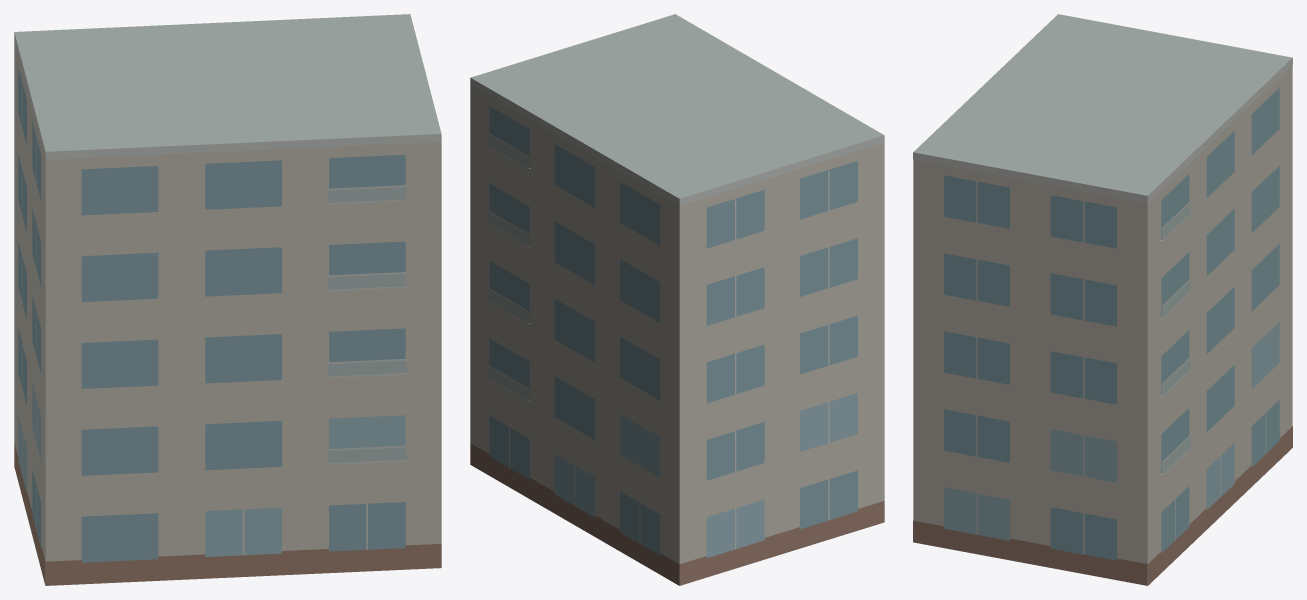
The model's file is survey-upis-32995027.glb.
The picture shows the model from 3 angles, left to right: view 1: azimuth 30°, elevation 25°; view 2: azimuth 150°, elevation 25°; view 3: azimuth 270°, elevation 25°; orthographic projection. The views are drawn at different scales.
Parts seen in each view (by area): view 1: survey-upis-32995027.tmp; view 2: survey-upis-32995027.tmp; view 3: survey-upis-32995027.tmp.
Part boxes in pixels (left/top/right/bottom): survey-upis-32995027.tmp: left=14, top=14, right=441, bottom=585; survey-upis-32995027.tmp: left=470, top=14, right=884, bottom=585; survey-upis-32995027.tmp: left=913, top=14, right=1292, bottom=585.
Size of the model in its own units: 13.21 by 13.2 by 11.65.
